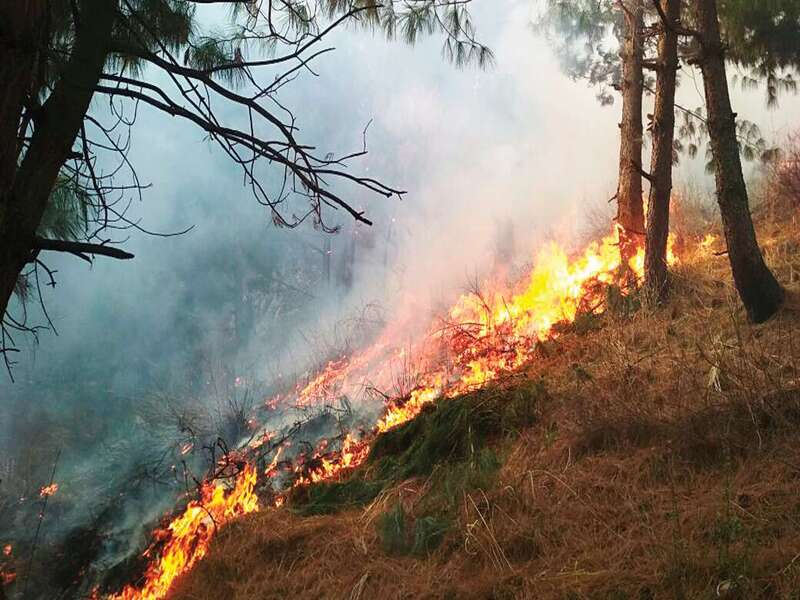fire: (463, 246, 627, 361)
